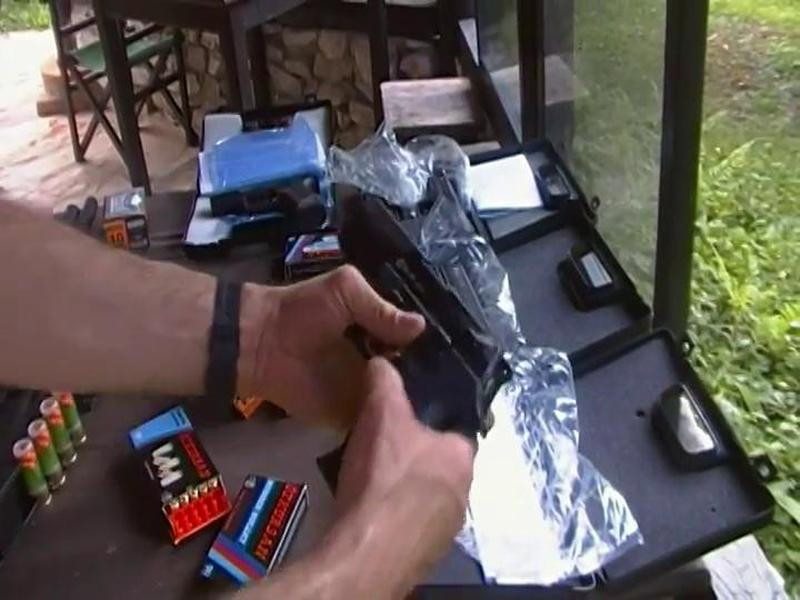Pistola: (294, 191, 528, 501)
